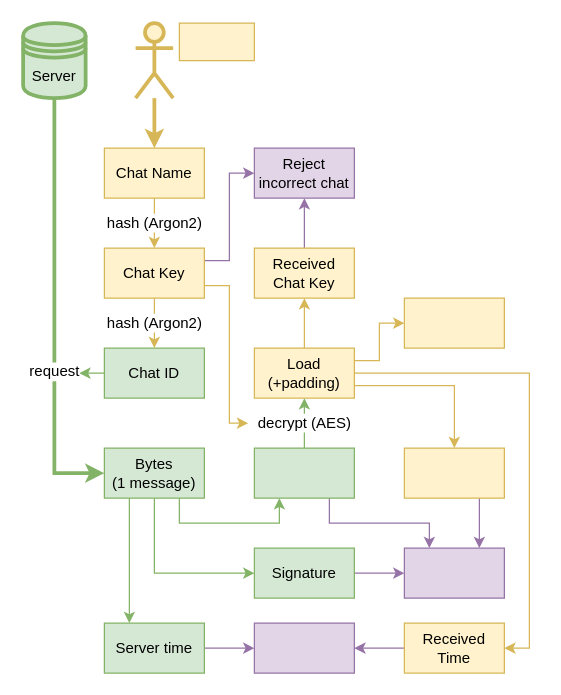
Image size: 561x695. Some labels were removed from this diagram. Here are the shapes that lost their labels. From the top down, the box of each, then its label:
(178, 22, 254, 61): Reciever
(403, 297, 504, 348): Message
(253, 447, 354, 498): Cypher
(403, 447, 504, 498): Public Key
(403, 547, 504, 598): Reject Failed verify
(253, 622, 354, 673): Reject inconsistency?
